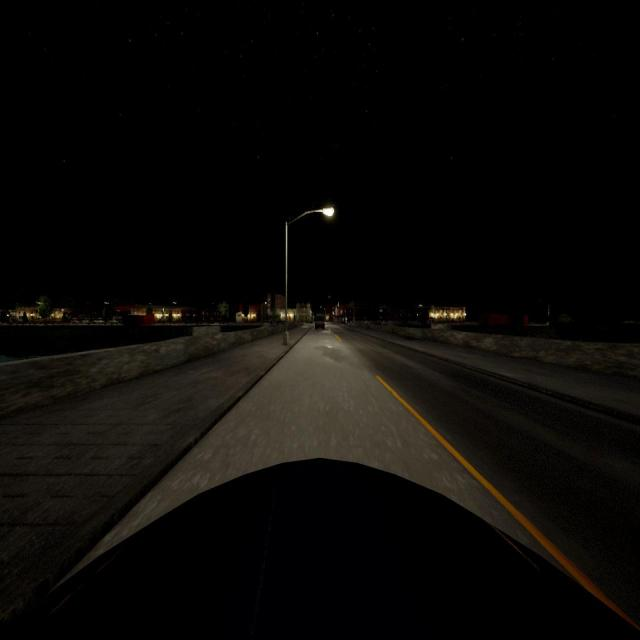Vehicle: (2, 457, 637, 640), (313, 312, 326, 332)
